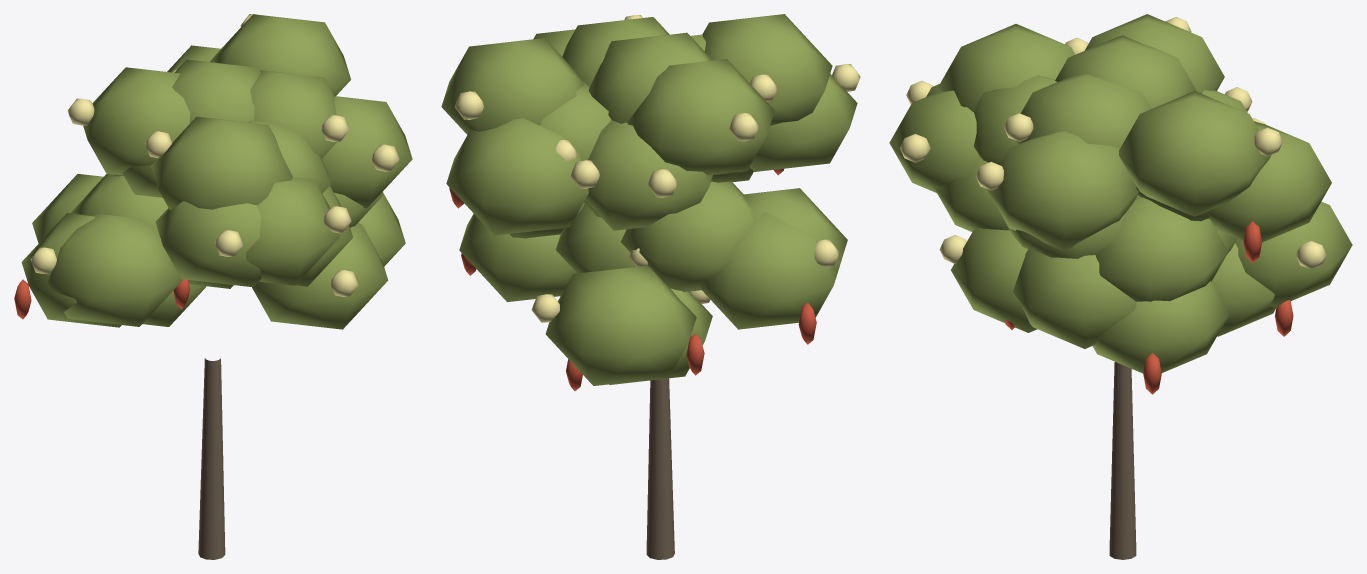
The model's file is adult-b.lod0.glb.
3 renders of one model, left to right at view 1: azimuth 30°, elevation 25°; view 2: azimuth 150°, elevation 25°; view 3: azimuth 270°, elevation 25°, orthographic. The views are drawn at different scales.
Parts seen in each view (by area): view 1: foliage, flowers, bark, fruit; view 2: foliage, flowers, bark, fruit; view 3: foliage, flowers, bark, fruit.
Part boxes in pixels (<box>): foliage: <box>21,14,412,329</box>; flowers: <box>30,14,399,296</box>; bark: <box>198,358,225,559</box>; fruit: <box>14,279,190,319</box>; foliage: <box>441,14,857,385</box>; flowers: <box>454,15,860,322</box>; bark: <box>646,378,674,559</box>; fruit: <box>449,168,816,390</box>; foliage: <box>889,14,1352,373</box>; flowers: <box>900,17,1326,269</box>; bark: <box>1109,362,1136,559</box>; fruit: <box>1004,221,1293,394</box>.
Size of the model in its own units: 5.2 by 7 by 5.73.
